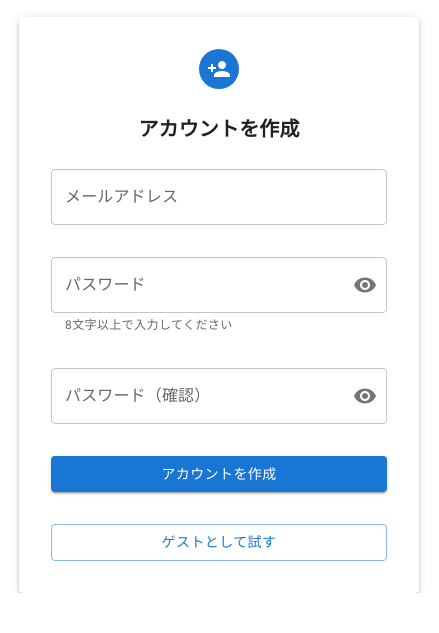
Test: AuthForm 異常系 › メールアドレスが不正な形式だと形式エラーが表示され、送信できないこと
The width and height of the screenshot is (439, 633).
In the field labelled "メールアドレス": (219, 197) left=51, top=169, right=387, bottom=225, type "invalid-email"
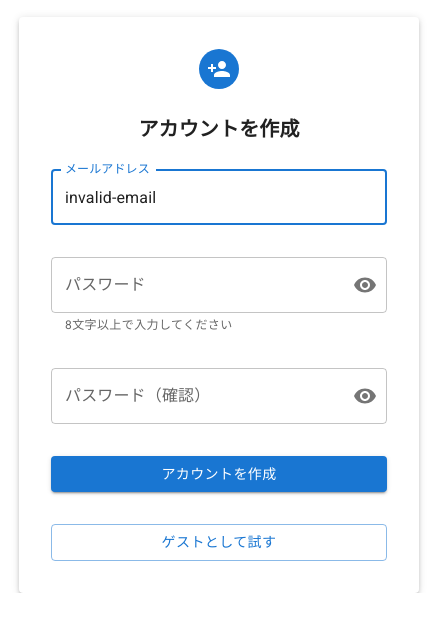
In the password field labelled "パスワード": (194, 285) left=51, top=257, right=337, bottom=313, type "password"
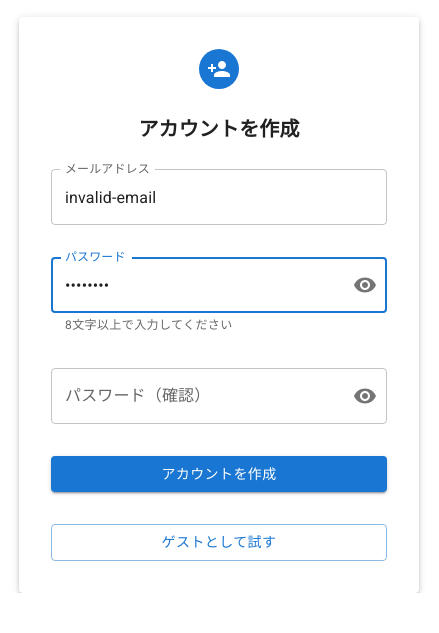
In the password field labelled "パスワード（確認）": (194, 396) left=51, top=368, right=337, bottom=424, type "password"
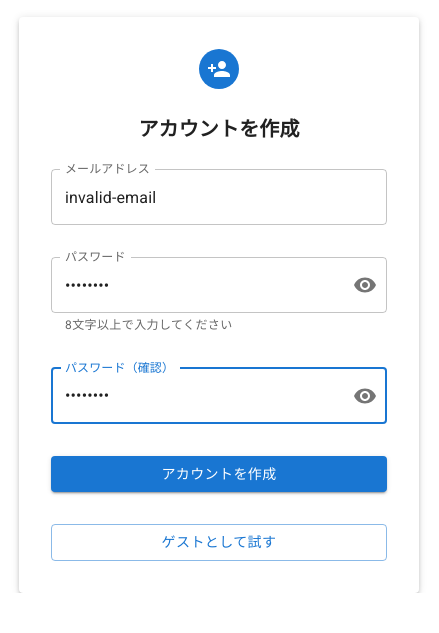
Click the button "アカウントを作成": (219, 474) left=51, top=456, right=387, bottom=492
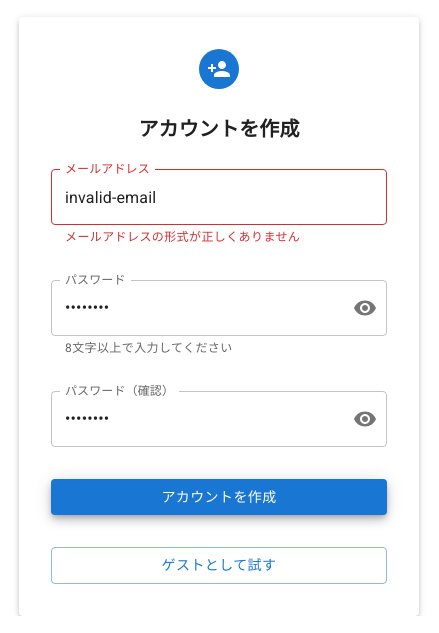
expect the text "メールアドレスの形式が正しくありません" is shown: met, box left=65, top=230, right=300, bottom=244
